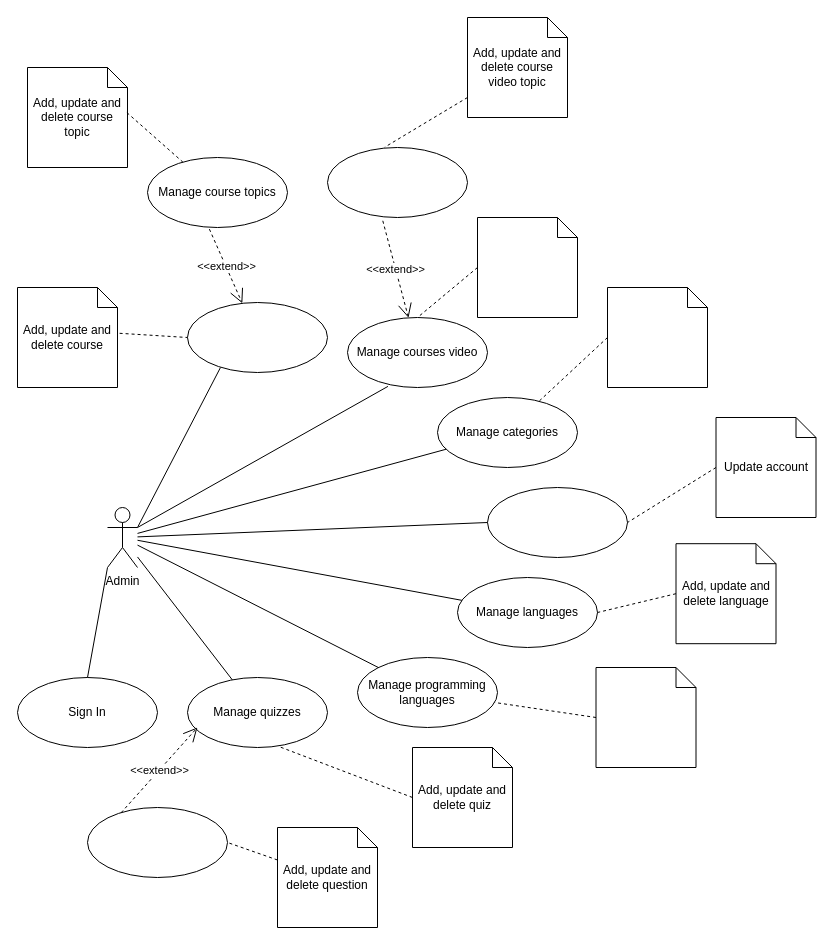
This 834x945 diagram has some shape labels left out. Each missing label, with the box of its shape:
Add, update and delete category: (606, 286, 708, 388)
Add, update and delete course video: (476, 216, 578, 318)
Add, update and delete programming language: (595, 666, 696, 768)
Manage accounts: (486, 486, 628, 558)
Manage course video topics: (326, 146, 468, 218)
Manage courses: (186, 302, 328, 372)
Manage quiz questions: (86, 806, 228, 878)
